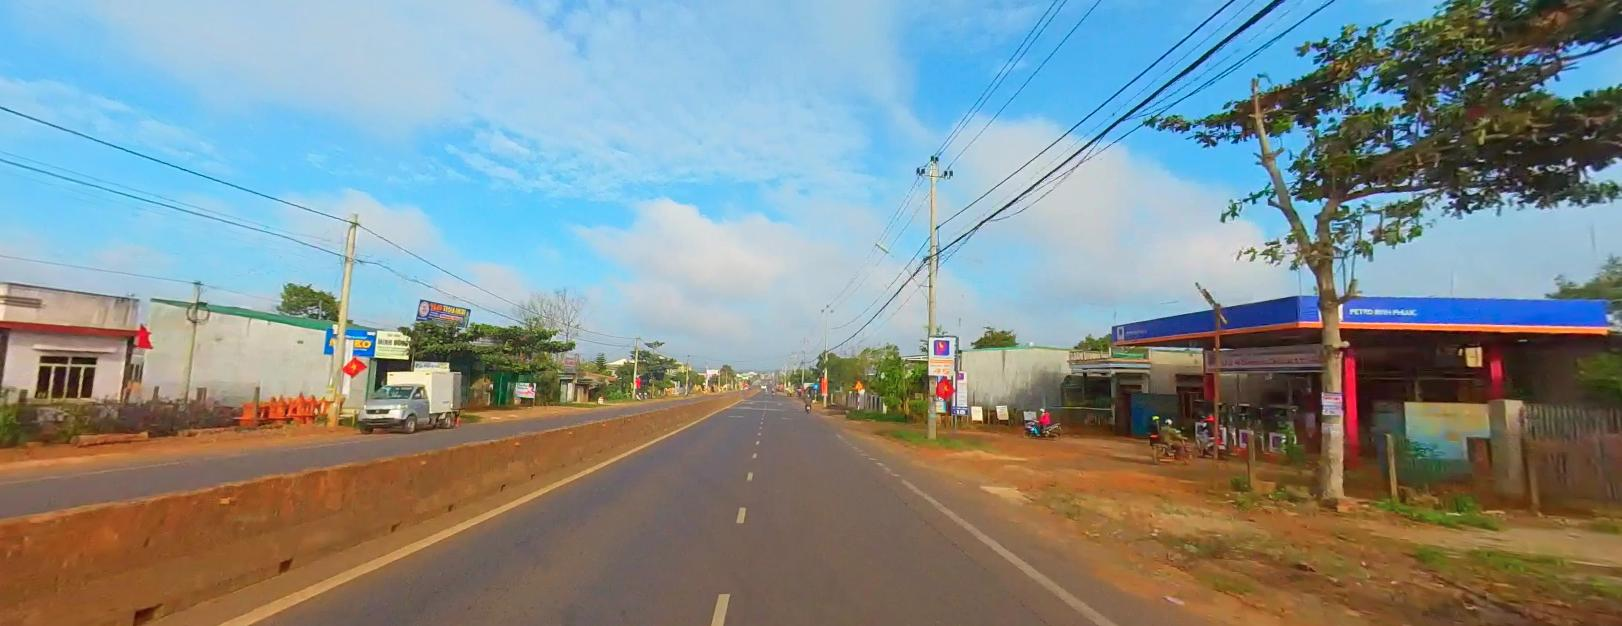Nguy hiem: (852, 377, 865, 387)
